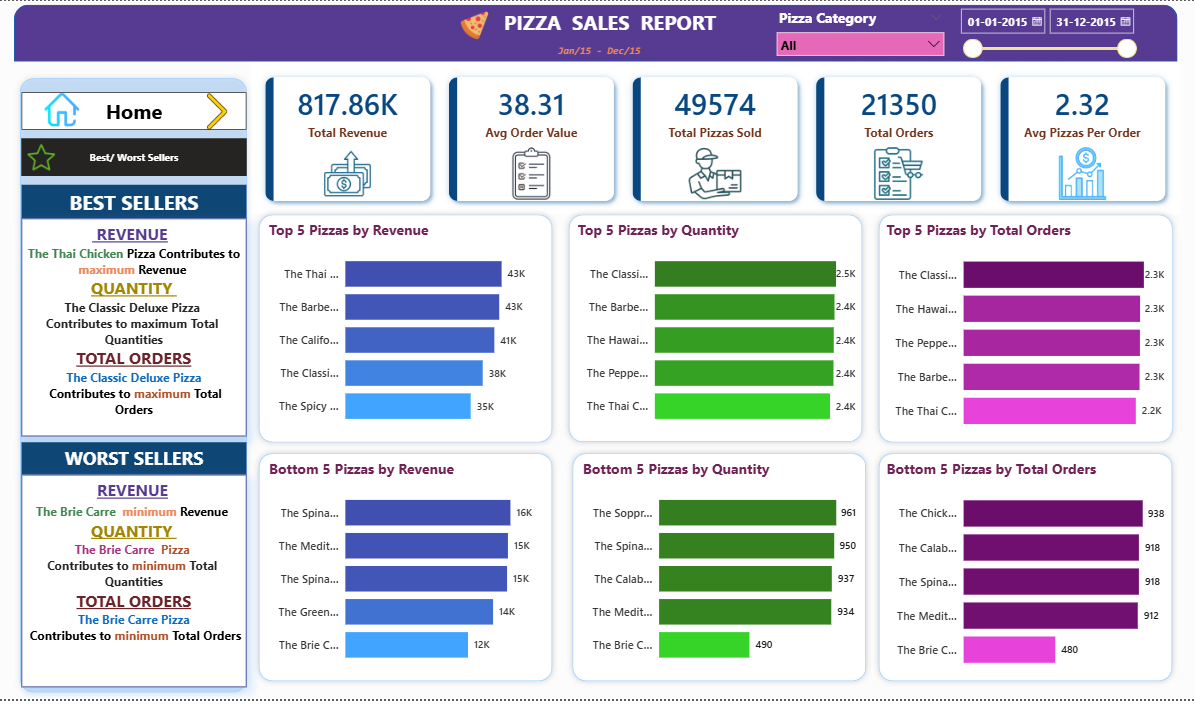

The page's visual inventory and layout, read from the dashboard file:
{"tool":"powerbi","page":{"name":"Best/ Worst Sellers","canvas":[1600,930],"ordinal":1},"visuals":[{"type":"cardVisual","fields":{"Data":["pizza_sales.Total Revenue","pizza_sales.Avg Order Value","pizza_sales.Total Pizzas Sold","pizza_sales.Total Orders","pizza_sales.Avg Pizzas Per Order"]},"box":[336,83.3,1238,201],"z":0},{"type":"shape","box":[20,95,318.3,835],"z":1000},{"type":"shape","box":[20,5.7,1551.4,75.7],"z":2000},{"type":"textbox","box":[658.6,4.3,312.9,47.1],"z":3000},{"type":"textbox","box":[726.2,51.2,147.5,30],"z":4000},{"type":"image","box":[610,12.9,48.6,38.6],"z":5000},{"type":"shape","box":[338.8,276.1,407.5,320],"z":6000},{"type":"textbox","box":[30,245,300,45],"z":7000},{"type":"textbox","box":[30,290,300,290],"z":8000},{"type":"textbox","box":[30,588.3,300,43.3],"z":9000},{"type":"textbox","box":[30,631.7,300,283.3],"z":10000},{"type":"slicer","fields":{"Values":["pizza_sales.pizza_category"]},"box":[1026.7,5,243.3,76.7],"z":11000},{"type":"slicer","fields":{"Values":["pizza_sales.order_date"]},"box":[1270,0,255,81.7],"z":12000},{"type":"shape","box":[752.2,276.1,407.5,319.4],"z":13000},{"type":"shape","box":[1164.2,276.1,408,320],"z":14000},{"type":"shape","box":[338.8,595.5,407.5,320],"z":15000},{"type":"shape","box":[756.7,595.5,407.5,320],"z":16000},{"type":"shape","box":[1164.2,595.5,407.5,320],"z":17000},{"type":"barChart","title":"Top 5 Pizzas by Revenue","fields":{"Category":["pizza_sales.pizza_name"],"Y":["pizza_sales.Total Revenue"]},"box":[355.2,291,374.6,289.6],"z":18000},{"type":"barChart","title":"Bottom 5 Pizzas by Revenue","fields":{"Category":["pizza_sales.pizza_name"],"Y":["pizza_sales.Total Revenue"]},"box":[355.2,610.4,374.6,289.6],"z":19000},{"type":"barChart","title":"Top 5 Pizzas by Quantity","fields":{"Category":["pizza_sales.pizza_name"],"Y":["pizza_sales.Total Pizzas Sold"]},"box":[767.2,291,380.6,289.6],"z":20000},{"type":"barChart","title":"Bottom 5 Pizzas by Quantity","fields":{"Category":["pizza_sales.pizza_name"],"Y":["pizza_sales.Total Pizzas Sold"]},"box":[773.1,610.4,374.6,289.6],"z":21000},{"type":"barChart","title":"Top 5 Pizzas by Total Orders","fields":{"Category":["pizza_sales.pizza_name"],"Y":["pizza_sales.Total Orders"]},"box":[1177.6,291,380.6,297],"z":22000},{"type":"barChart","title":"Bottom 5 Pizzas by Total Orders","fields":{"Category":["pizza_sales.pizza_name"],"Y":["pizza_sales.Total Orders"]},"box":[1177.6,610.4,380.6,297],"z":23000},{"type":"pageNavigator","box":[30,121.7,300,50],"z":24000},{"type":"pageNavigator","box":[30,183.3,300,50],"z":25000},{"type":"image","box":[56,122,54,46],"z":26000},{"type":"image","box":[251.7,123.3,78.3,48.3],"z":27000},{"type":"image","box":[30,190,53.3,36.7],"z":28000}]}

Visuals, with their boxes in screenshot pixels (x1, y1, x2, y2), scaled from the page's 1600x930 canvas onto the 1195x704 screenshot:
cardVisual - pizza_sales.Total Revenue x pizza_sales.Avg Order Value: bbox=(251, 63, 1176, 215)
shape: bbox=(15, 72, 253, 703)
shape: bbox=(15, 4, 1174, 62)
textbox: bbox=(492, 3, 726, 39)
textbox: bbox=(542, 39, 653, 61)
image: bbox=(456, 10, 492, 39)
shape: bbox=(253, 209, 557, 451)
textbox: bbox=(22, 185, 246, 220)
textbox: bbox=(22, 220, 246, 439)
textbox: bbox=(22, 445, 246, 478)
textbox: bbox=(22, 478, 246, 693)
slicer - pizza_sales.pizza_category: bbox=(767, 4, 949, 62)
slicer - pizza_sales.order_date: bbox=(949, 0, 1139, 62)
shape: bbox=(562, 209, 866, 451)
shape: bbox=(870, 209, 1174, 451)
shape: bbox=(253, 451, 557, 693)
shape: bbox=(565, 451, 870, 693)
shape: bbox=(870, 451, 1174, 693)
"Top 5 Pizzas by Revenue" barChart: bbox=(265, 220, 545, 440)
"Bottom 5 Pizzas by Revenue" barChart: bbox=(265, 462, 545, 681)
"Top 5 Pizzas by Quantity" barChart: bbox=(573, 220, 857, 440)
"Bottom 5 Pizzas by Quantity" barChart: bbox=(577, 462, 857, 681)
"Top 5 Pizzas by Total Orders" barChart: bbox=(880, 220, 1164, 445)
"Bottom 5 Pizzas by Total Orders" barChart: bbox=(880, 462, 1164, 687)
pageNavigator: bbox=(22, 92, 246, 130)
pageNavigator: bbox=(22, 139, 246, 177)
image: bbox=(42, 92, 82, 127)
image: bbox=(188, 93, 246, 130)
image: bbox=(22, 144, 62, 172)
